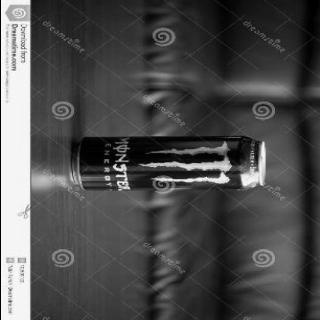alumunium_can: (71, 136, 265, 192)
